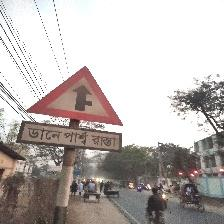Side-road-right: (19, 66, 125, 150)
